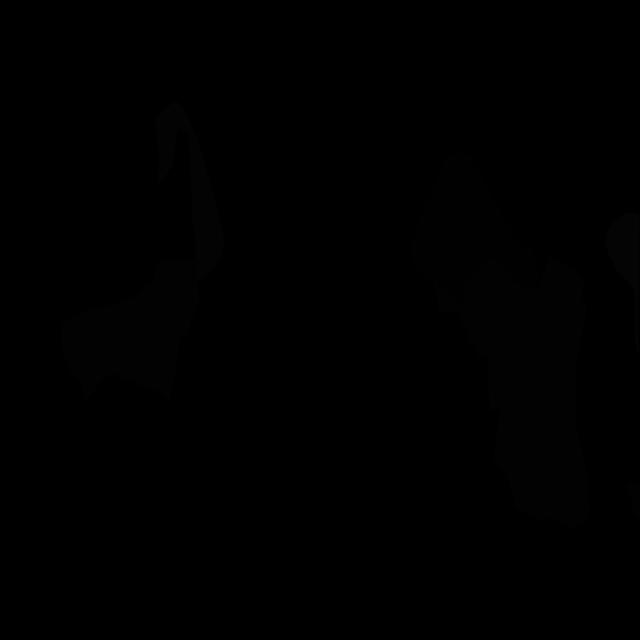cardboard: (434, 255, 590, 529), (60, 259, 199, 400), (626, 481, 640, 519)
metal: (154, 100, 224, 282)
rigid_plastic: (410, 152, 541, 305)
soft_plastic: (604, 212, 640, 357)
